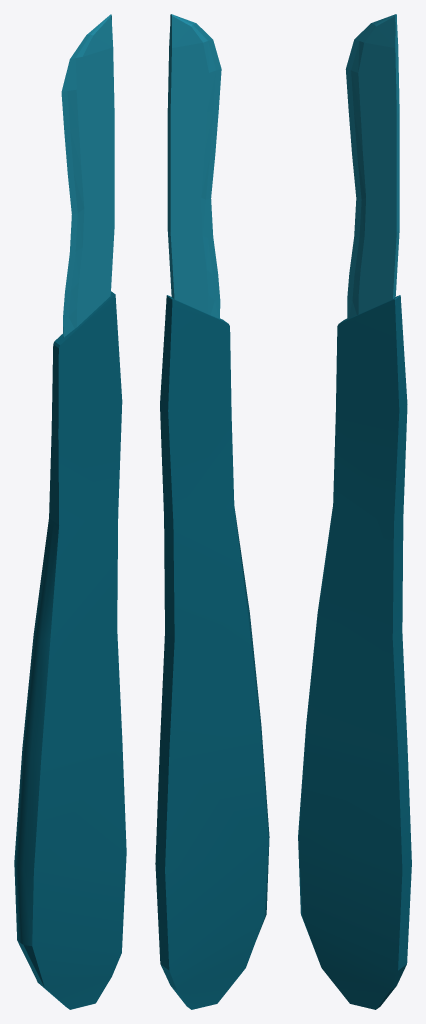
Rendered from Medical Scissors_06_OBJ.obj.
The picture shows the model from 3 angles, left to right: view 1: azimuth 30°, elevation 25°; view 2: azimuth 210°, elevation 25°; view 3: azimuth 330°, elevation 25°; orthographic projection.
Visible parts, largest first — view 1: Line001, Line002; view 2: Line001, Line002; view 3: Line001, Line002.
Boxes of the visible parts, box(x1,y1,x2,y2) form: Line001: box(14, 291, 126, 1009); Line002: box(61, 14, 114, 337); Line001: box(155, 295, 269, 1009); Line002: box(167, 14, 221, 318); Line001: box(298, 295, 411, 1009); Line002: box(345, 14, 399, 318).
Size of the model in its own units: 0.8476 by 7.58 by 0.2668.
